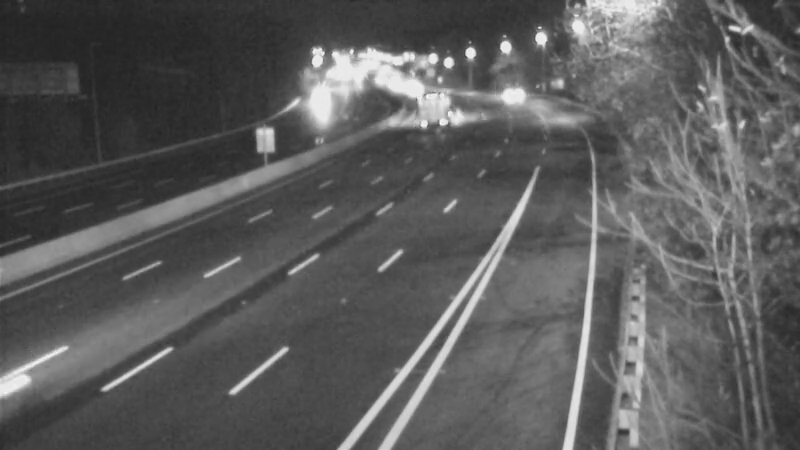vehicle: (1, 341, 91, 450), (410, 87, 460, 137), (476, 63, 526, 113)
